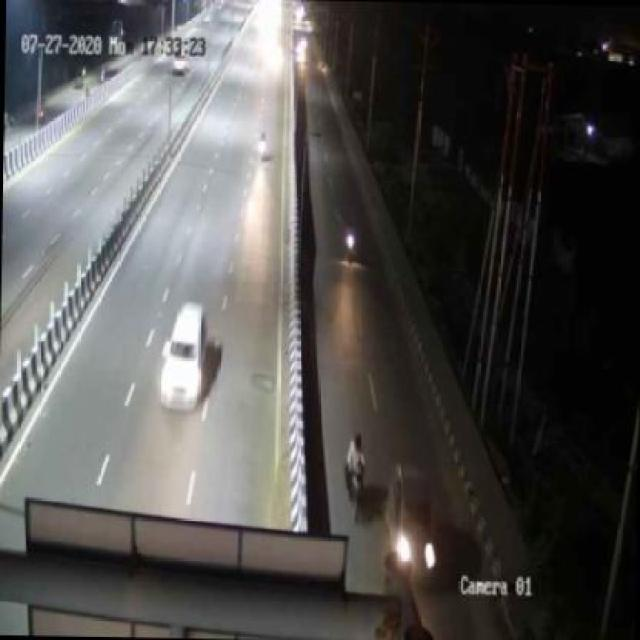car: (377, 468, 441, 575), (154, 301, 203, 417)
